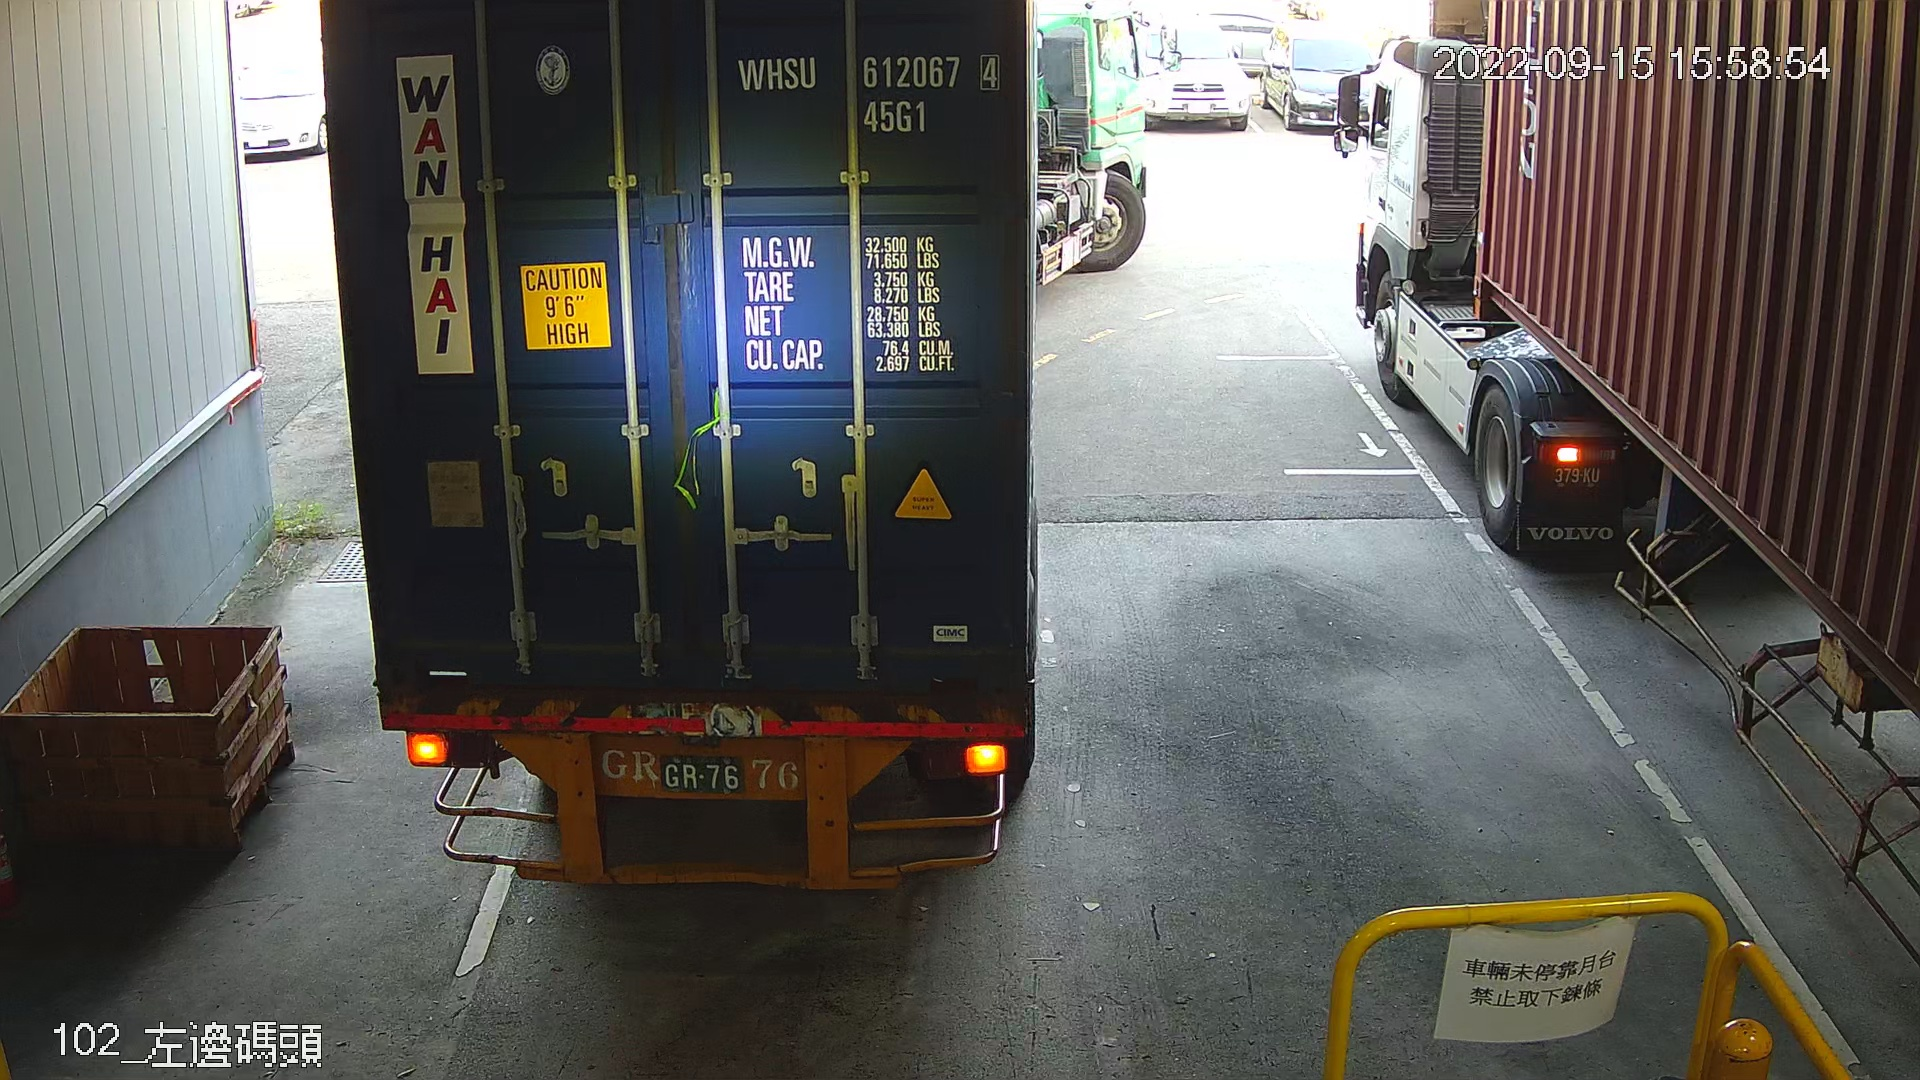container: (725, 41, 1013, 144)
